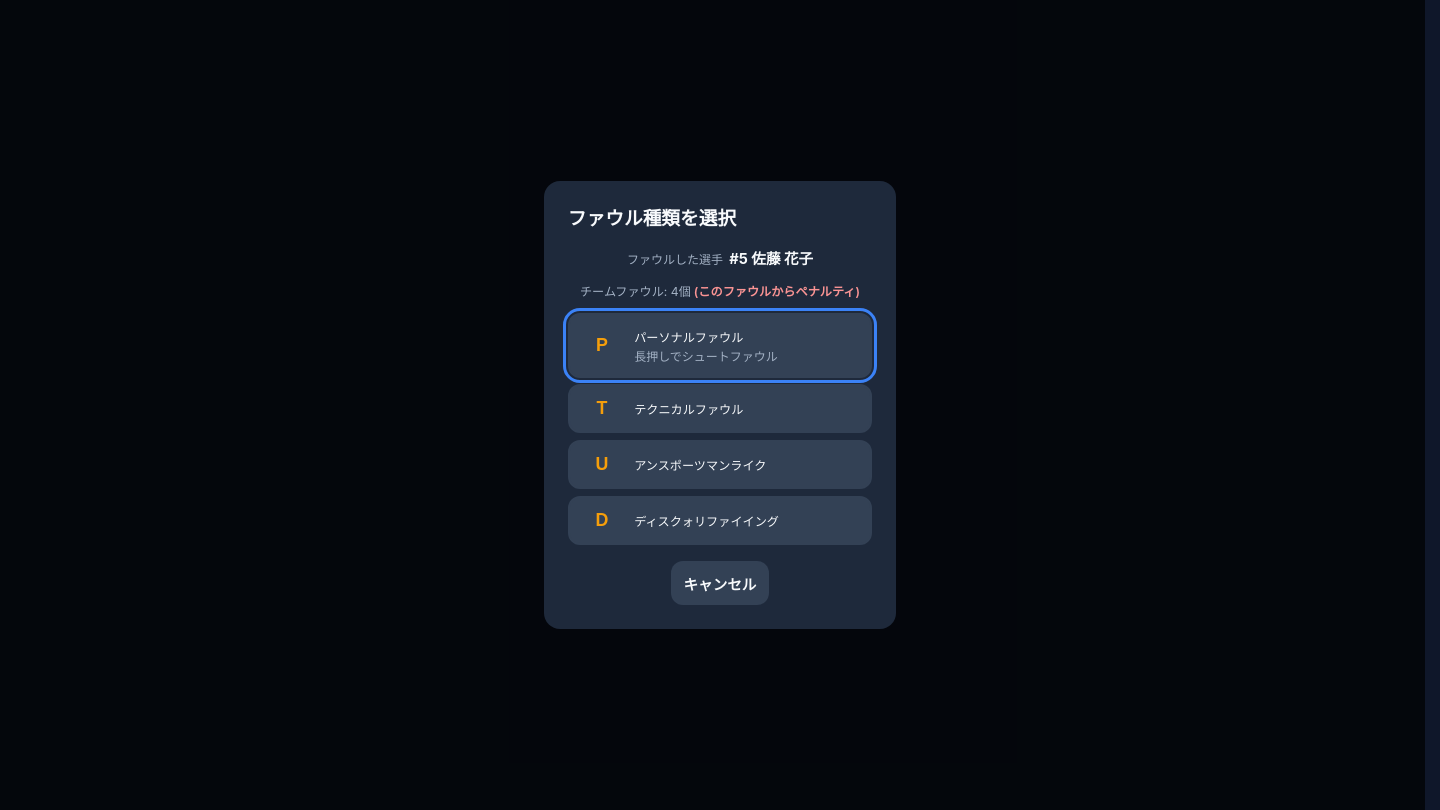
it: 中断ブロック: 表示条件 › シューターを選んだ後は、シューター選択のままでも出る
This screenshot has width=1440, height=810.
Press Enter in the button "P パーソナルファウル 長押しでシュートファウル", box [568,314,872,378]
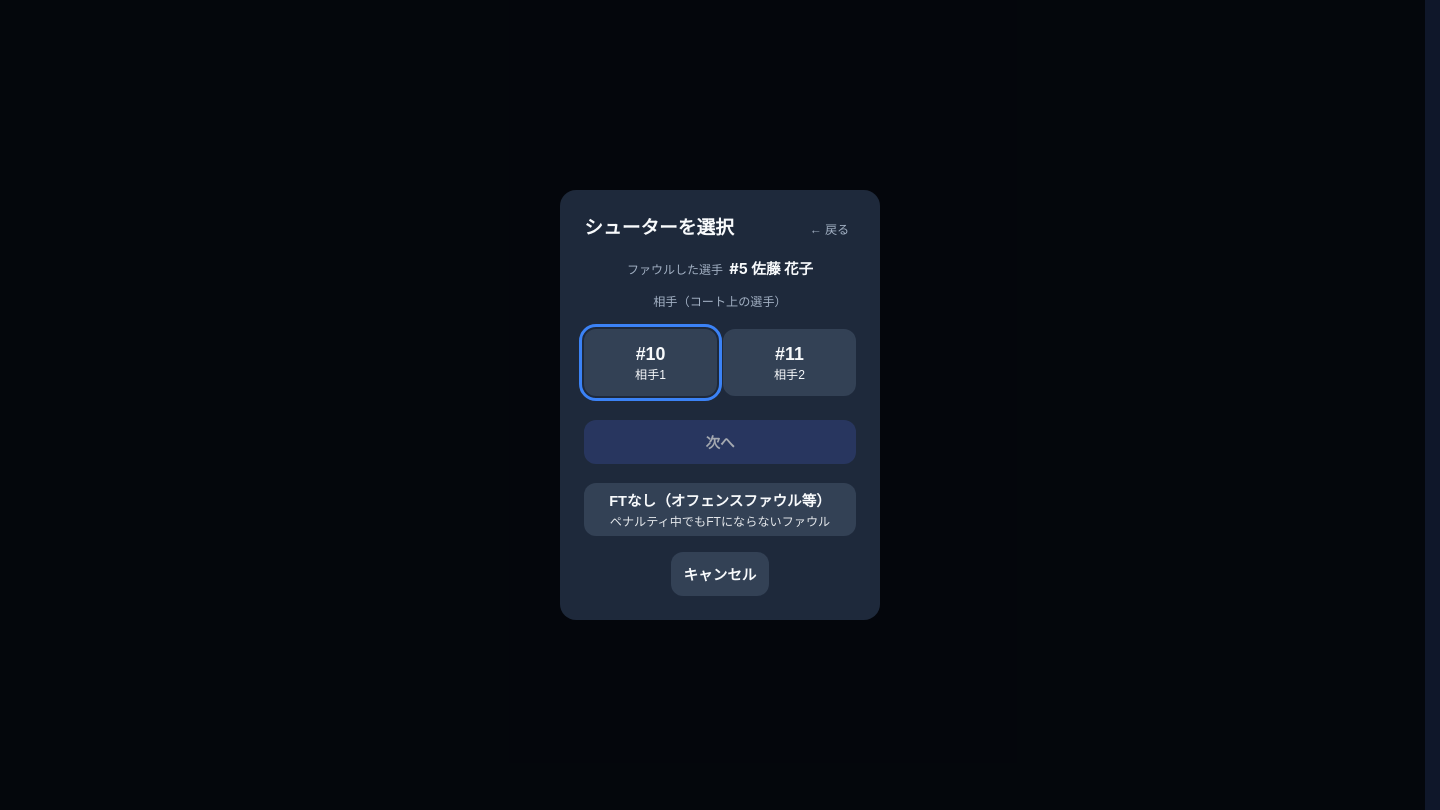
Click the button "#10 相手1": [651, 363] box [584,329,717,396]
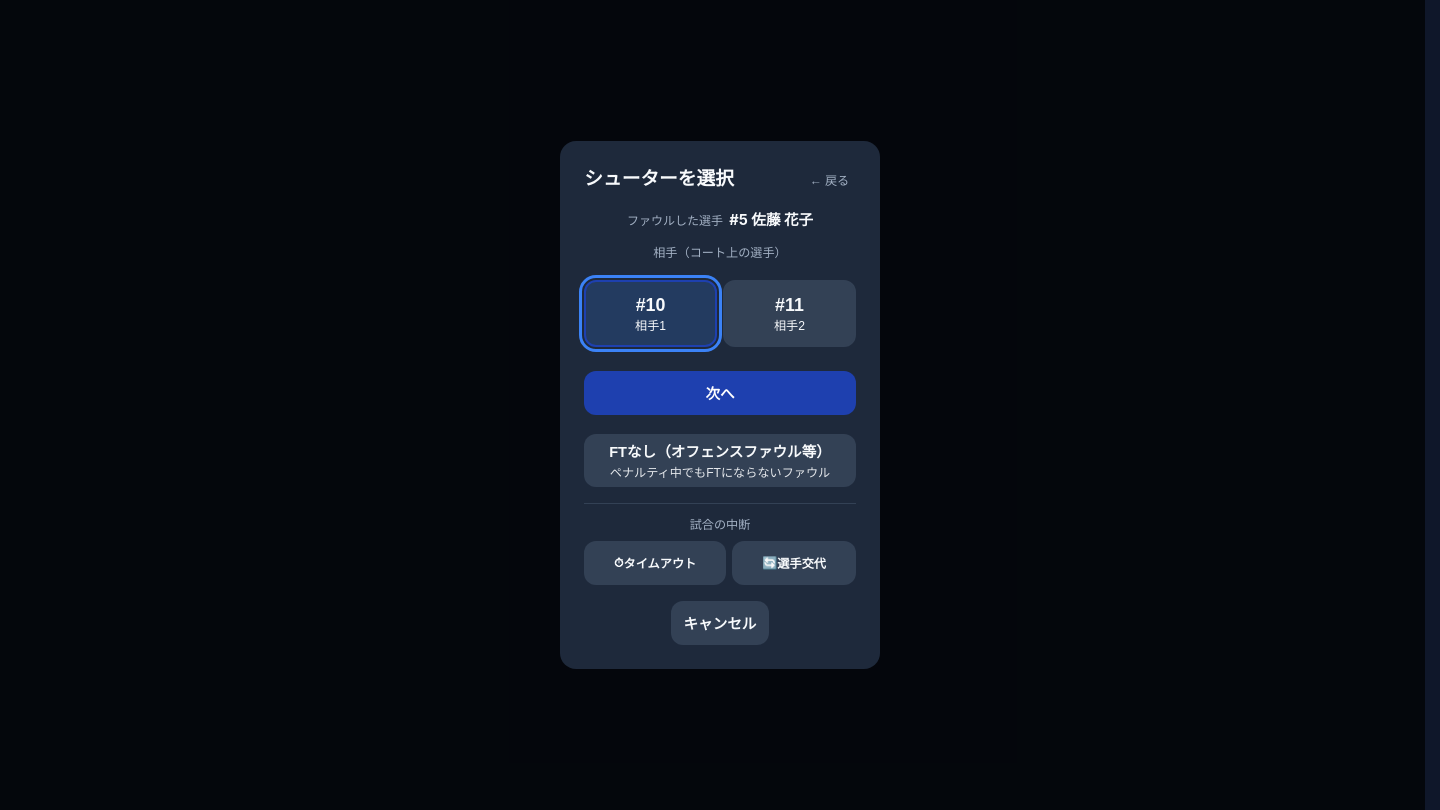
Expected: the text "試合の中断" is shown, [690,517,750,532]
Expected: the button "⏱ タイムアウト" is shown, [584,540,726,584]
Expected: the button "🔄 選手交代" is shown, [732,540,856,584]
